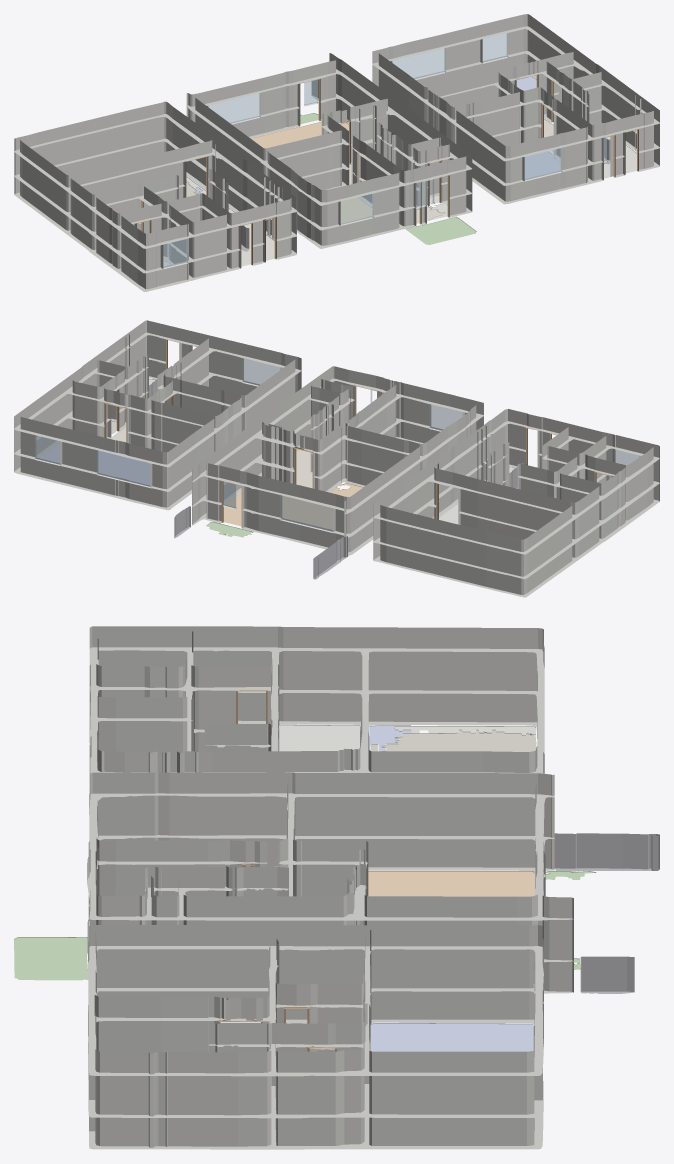
3 renders of one model, top to bottom at view 1: azimuth 30°, elevation 25°; view 2: azimuth 150°, elevation 25°; view 3: azimuth 270°, elevation 25°, orthographic. The views are drawn at different scales.
Visible parts, largest first — view 1: walls, floor_0_Outdoor, window_20, window_18, floor_5_Living_Room, window_24, window_23, floor_6_Bed_Room, railings, window_21, floor_4_Kitchen, window_22 (+1 smaller); view 2: walls, floor_5_Living_Room, railings, floor_9_Bed_Room, window_18, window_20, window_24, window_23, window_21, floor_14_Entry; view 3: walls, railings, floor_9_Bed_Room, floor_5_Living_Room, floor_0_Outdoor, floor_17_Storage, floor_23_Undefined, floor_25_Undefined.
Boxes of the visible parts, left/top/right/bottom form: walls: left=14, top=14, right=659, bottom=291; floor_0_Outdoor: left=406, top=216, right=476, bottom=244; window_20: left=392, top=48, right=445, bottom=78; window_18: left=208, top=93, right=260, bottom=123; floor_5_Living_Room: left=251, top=121, right=350, bottom=164; window_24: left=524, top=148, right=561, bottom=180; window_23: left=340, top=194, right=373, bottom=224; floor_6_Bed_Room: left=525, top=151, right=560, bottom=178; railings: left=241, top=79, right=610, bottom=251; window_21: left=482, top=33, right=507, bottom=62; floor_4_Kitchen: left=341, top=197, right=371, bottom=223; window_22: left=163, top=239, right=187, bottom=267; walls: left=14, top=320, right=659, bottom=597; floor_5_Living_Room: left=223, top=483, right=363, bottom=529; railings: left=149, top=379, right=526, bottom=579; floor_9_Bed_Room: left=39, top=443, right=149, bottom=485; window_18: left=280, top=495, right=332, bottom=531; window_20: left=97, top=450, right=149, bottom=486; window_24: left=242, top=358, right=279, bottom=385; window_23: left=429, top=404, right=462, bottom=430; window_21: left=35, top=435, right=59, bottom=464; floor_14_Entry: left=296, top=448, right=312, bottom=488; walls: left=87, top=626, right=573, bottom=1149; railings: left=554, top=833, right=659, bottom=993; floor_9_Bed_Room: left=370, top=1023, right=533, bottom=1051; floor_5_Living_Room: left=368, top=871, right=534, bottom=896; floor_0_Outdoor: left=14, top=937, right=87, bottom=980; floor_17_Storage: left=370, top=729, right=536, bottom=751; floor_23_Undefined: left=279, top=724, right=360, bottom=751; floor_25_Undefined: left=394, top=726, right=535, bottom=734.
Size of the model in its own units: 26.33 by 2.72 by 16.75.
